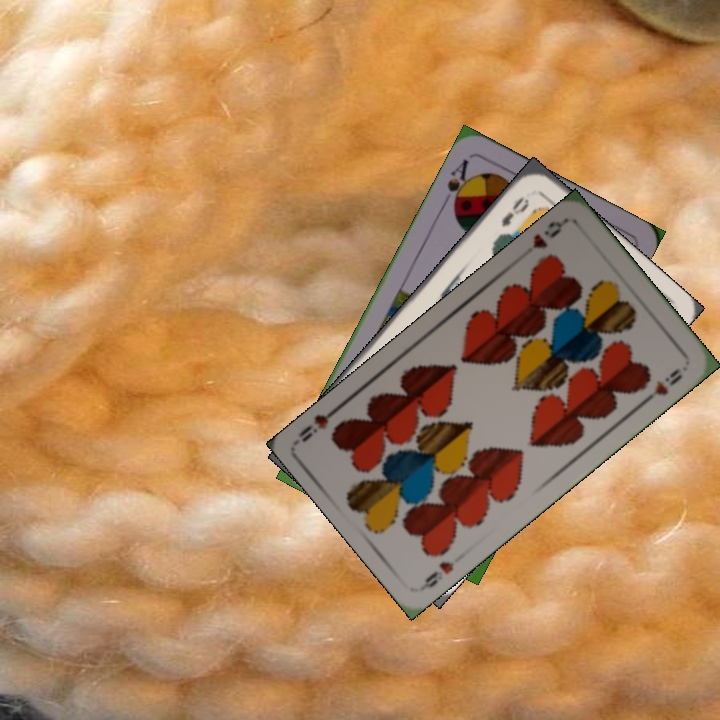EO: (497, 192, 532, 230)
H9: (528, 216, 569, 252), (417, 557, 457, 593)
SA: (443, 155, 475, 214)
